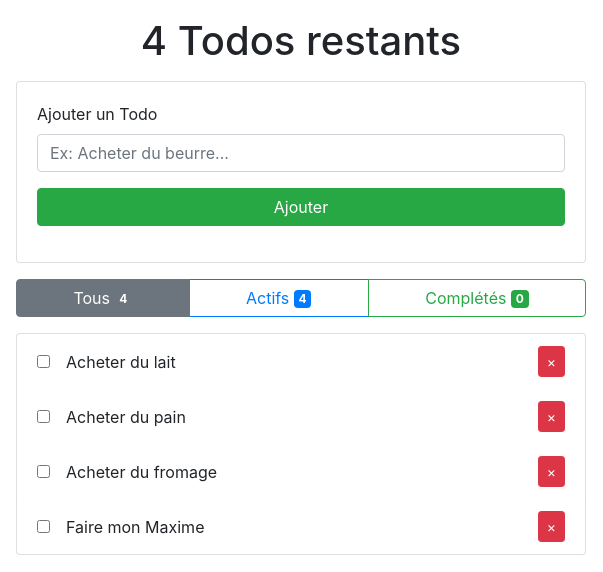
it: Basculement complété / non-complété › le compteur de restants diminue quand un todo est coché
Check: the heading "4 Todos restants" is shown, box [141, 16, 461, 65]
Step 1. Click the checkbox named "marquer \"acheter du lait\" comme complété" → point(44, 362), box [37, 355, 50, 368]
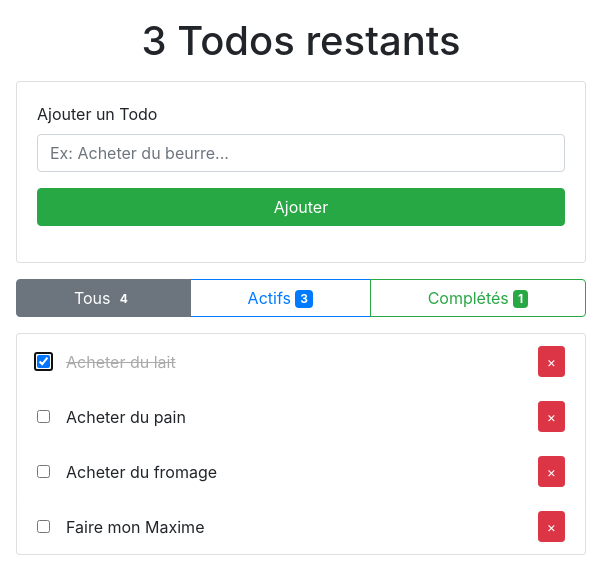
Check: the heading "3 Todos restants" is shown, box [141, 16, 460, 65]
